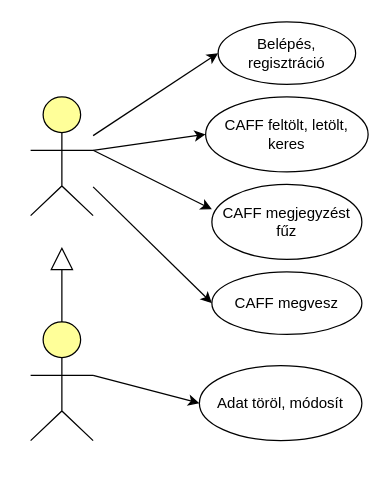
This 390x489 diagram has some shape labels left out. The shapes that lost their labels are listed below. From the top down, each one's centre as x and y in pixels, then its label:
point 61,156: Felhasználó
point 61,381: Admin
